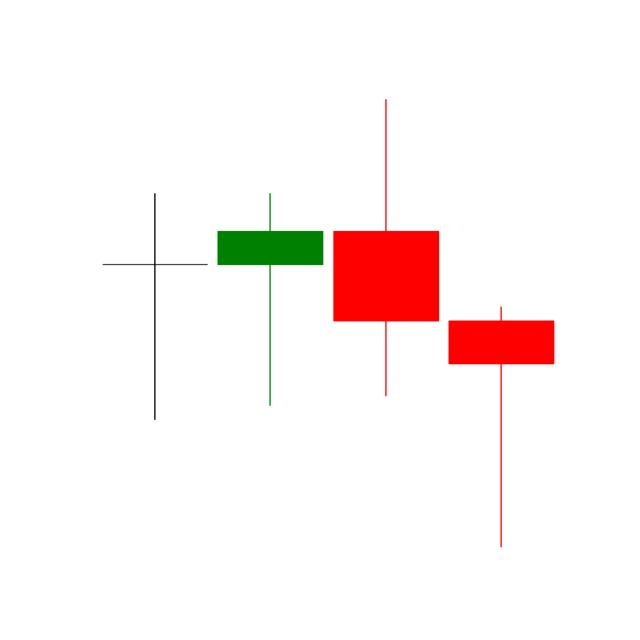Hanging Man: (445, 304, 559, 557)
Long-Legged Doji: (101, 191, 211, 423)
